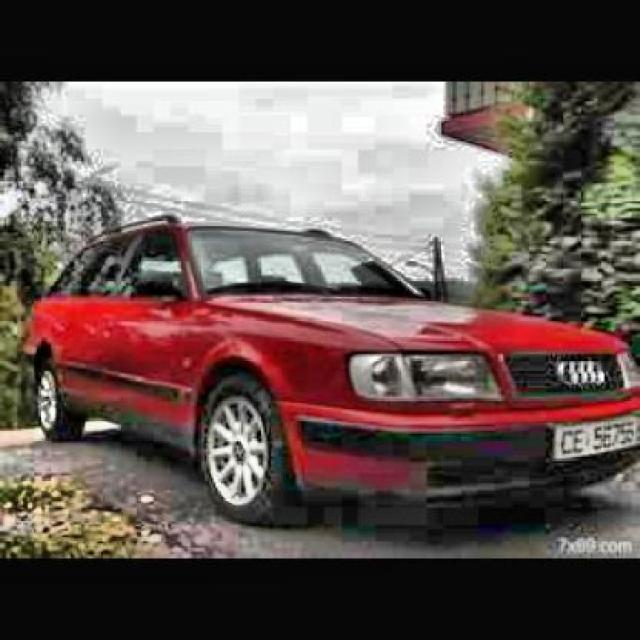red: (24, 209, 640, 510)
